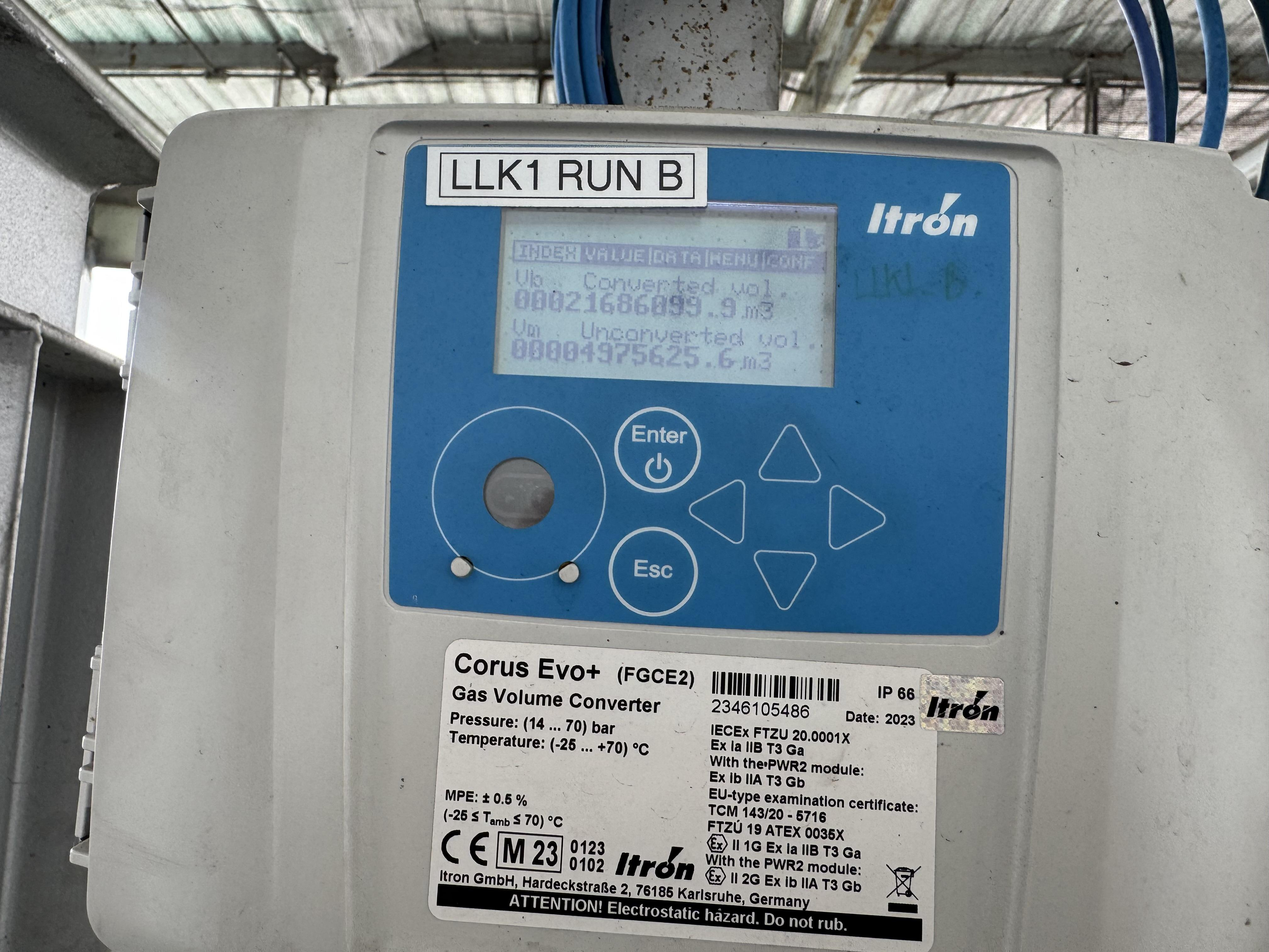digital_screen: (494, 191, 842, 388)
